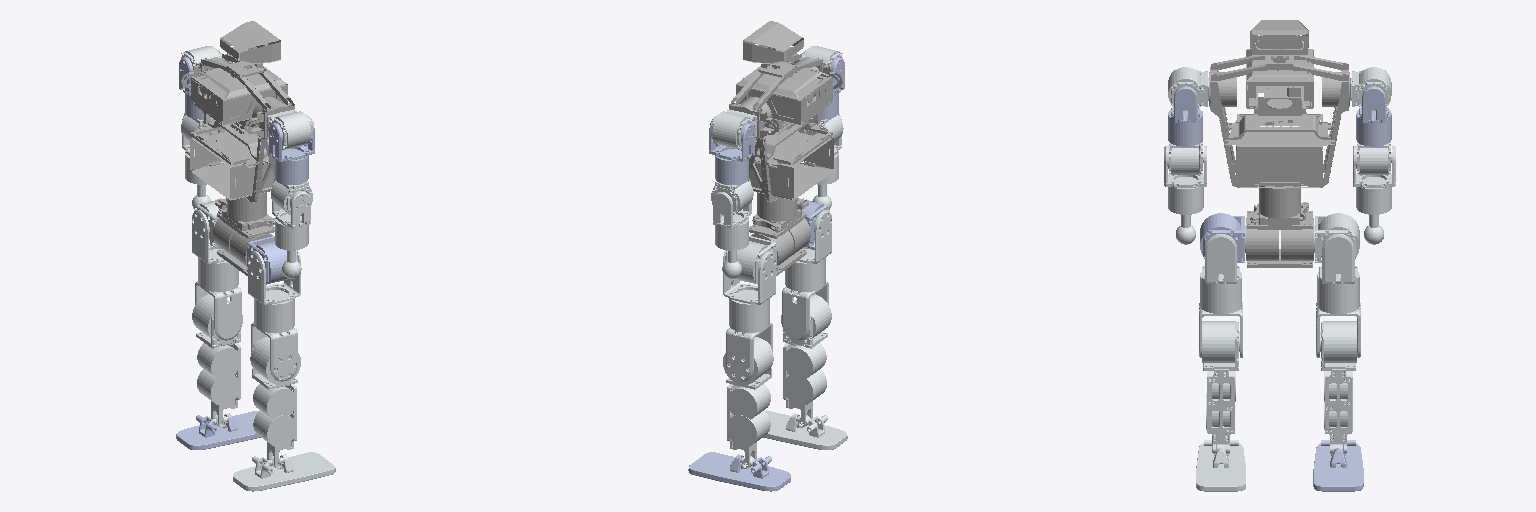
--- Render facts (derived) ---
The picture shows the robot from 3 angles, left to right: view 1: azimuth 30°, elevation 25°; view 2: azimuth 150°, elevation 25°; view 3: azimuth 270°, elevation 25°; orthographic projection.
Robot: hi_23dof_250401 — 37 links, 36 joints (23 revolute, 13 fixed); root link waist_link; default pose: every joint at zero.
Links seen in each view (by area): view 1: base_link, l_calf_link, r_calf_link, r_hip_roll_link, r_ankle_roll_link, l_hip_roll_link, waist_link, l_ankle_roll_link, r_shoulder_roll_link, r_elbow_link, r_thigh_link, l_thigh_link (+4 smaller); view 2: base_link, r_calf_link, l_calf_link, l_hip_roll_link, l_ankle_roll_link, r_hip_roll_link, waist_link, r_ankle_roll_link, l_shoulder_roll_link, l_elbow_link, l_thigh_link, r_thigh_link (+4 smaller); view 3: base_link, r_calf_link, l_calf_link, waist_link, l_hip_roll_link, r_hip_roll_link, l_ankle_roll_link, r_ankle_roll_link, l_shoulder_roll_link, r_shoulder_roll_link, l_elbow_link, r_elbow_link (+7 smaller).
Boxes of the visible links, x1,y1,x2,y2 form: base_link: (181,21,294,221); l_calf_link: (192,294,242,427); r_calf_link: (250,337,300,468); r_hip_roll_link: (248,250,300,332); r_ankle_roll_link: (233,452,335,491); l_hip_roll_link: (192,210,238,291); waist_link: (213,207,274,275); l_ankle_roll_link: (176,411,260,449); r_shoulder_roll_link: (269,116,314,184); r_elbow_link: (272,191,310,249); r_thigh_link: (251,322,297,381); l_thigh_link: (195,281,241,340); base_link: (729,21,842,221); r_calf_link: (781,294,831,427); l_calf_link: (723,337,773,468); l_hip_roll_link: (723,250,775,332); l_ankle_roll_link: (688,452,790,491); r_hip_roll_link: (785,210,831,291); waist_link: (749,209,810,275); r_ankle_roll_link: (763,411,847,449); l_shoulder_roll_link: (709,116,754,184); l_elbow_link: (713,192,751,250); l_thigh_link: (726,322,772,381); r_thigh_link: (782,281,828,340); base_link: (1209,20,1349,218); r_calf_link: (1202,321,1238,453); l_calf_link: (1321,321,1356,453); waist_link: (1246,202,1313,267); l_hip_roll_link: (1317,234,1359,313); r_hip_roll_link: (1200,234,1241,313); l_ankle_roll_link: (1313,440,1363,491); r_ankle_roll_link: (1196,440,1245,491); l_shoulder_roll_link: (1356,86,1391,146); r_shoulder_roll_link: (1168,86,1202,146); l_elbow_link: (1353,146,1395,214); r_elbow_link: (1164,146,1206,214).
Size in the robot's own frame: 0.1874 by 0.3921 by 0.8263 metres.
Meshes: 24 distinct files referenced, 24 mesh visuals loaded (24 binary STL).

robot.urdf — hi_23dof_250401:
<?xml version="1.0" encoding="utf-8"?>
<!--
This URDF was automatically created by SolidWorks to URDF Exporter! Originally created by Stephen Brawner ([email redacted])
Commit Version: 1.6.0-4-g7f85cfe  Build Version: 1.6.7995.38578
For more information, please see http://wiki.ros.org/sw_urdf_exporter
-->
<robot name="hi_23dof_250401">
	<mujoco>
		<compiler meshdir="../meshes/" balanceinertia="true" discardvisual="false" />
	</mujoco>
	<link name="base_link">
		<inertial>
			<origin xyz="0.0259087 -0.0015142 -0.0707803" rpy="0 0 0" />
			<mass value="4.2751522" />
			<inertia ixx="0.0576049" ixy="-1.59E-05" ixz="0.0004045" iyy="0.0457651" iyz="2.6E-06" izz="0.0212488" />
		</inertial>
		<visual>
			<origin xyz="0 0 0" rpy="0 0 0" />
			<geometry>
				<mesh filename="../meshes/base_link.STL" />
			</geometry>
			<material name="">
				<color rgba="0.75294 0.75294 0.75294 1" />
			</material>
		</visual>
		<collision>
			<origin xyz="0.03 0 -0.07" rpy="0 0 0" />
			<geometry>
				<box size="0.12 0.24 0.28" />
				<!-- <mesh filename="../meshes/base_link.STL" /> -->
			</geometry>
		</collision>
	</link>
<!-- waist -->
	<link name="waist_link">
		<inertial>
			<origin xyz="1.2E-06 3.4E-05 -0.049561" rpy="0 0 0" />
			<mass value="1.5958" />
			<inertia ixx="0.0027667" ixy="7.1E-06" ixz="-1E-07" iyy="0.001617" iyz="-2.6E-06" izz="0.0021703" />
		</inertial>
		<visual>
			<origin xyz="0 0 0" rpy="0 0 0" />
			<geometry>
				<mesh filename="../meshes/waist_link.STL" />
			</geometry>
			<material name="">
				<color rgba="0.75294 0.75294 0.75294 1" />
			</material>
		</visual>
		<collision>
			<origin xyz="0 0 -0.05" rpy="0 0 0" />
			<geometry>
				<box size="0.09 0.11 0.09" />
				<!-- <mesh filename="../meshes/waist_link.STL" /> -->
			</geometry>
		</collision>
	</link>
	<joint name="waist_joint" type="revolute">
		<origin xyz="-0.028589 0.0015934 0.2183" rpy="0 0 0" />
		<parent link="waist_link" />
		<child link="base_link" />
		<axis xyz="0 0 1" />
		<limit lower="-0.5" upper="0.5" effort="24" velocity="6.28" />
	</joint>

	<link name="head_link"/>
	<joint name="head_fixed_joint" type="fixed">
		<origin xyz="0.03 0 0.06" rpy="0 0 0" />
		<parent link="base_link" />
		<child link="head_link" />
	</joint>

<!-- left leg -->
	<link name="l_hip_pitch_link">
		<inertial>
			<origin xyz="0.0001203 0.0399259 0" rpy="0 0 0" />
			<mass value="0.665545" />
			<inertia ixx="0.0004708" ixy="0" ixz="0" iyy="0.0004388" iyz="0" izz="0.000473" />
		</inertial>
		<visual>
			<origin xyz="0 0 0" rpy="0 0 0" />
			<geometry>
				<mesh filename="../meshes/l_hip_pitch_link.STL" />
			</geometry>
			<material name="">
				<color rgba="0.89804 0.91765 0.92941 1" />
			</material>
		</visual>
		<collision>
			<origin xyz="0 0.04 0" rpy="0 0 0" />
			<geometry>
				<box size="0.06 0.07 0.06" />
				<!-- <mesh filename="../meshes/l_hip_pitch_link.STL" /> -->
			</geometry>
		</collision>
	</link>
  	<joint name="l_hip_pitch_joint" type="revolute">
		<origin xyz="0 0.0575000000000001 -0.0553000000000014" rpy="0 0 0" />
		<parent link="waist_link" />
		<child link="l_hip_pitch_link" />
		<axis xyz="0 1 0" />
		<limit lower="-1.6" upper="1.6" effort="24" velocity="6.28" />
	</joint>
	<link name="l_hip_roll_link">
		<inertial>
			<origin xyz="-0.027804 0 -0.0756606" rpy="0 0 0" />
			<mass value="0.7871145" />
			<inertia ixx="0.0013399" ixy="0" ixz="2.98E-05" iyy="0.0015491" iyz="0" izz="0.0006846" />
		</inertial>
		<visual>
			<origin xyz="0 0 0" rpy="0 0 0" />
			<geometry>
				<mesh filename="../meshes/l_hip_roll_link.STL" />
			</geometry>
			<material name="">
				<color rgba="0.89804 0.91765 0.92941 1" />
			</material>
		</visual>
		<collision>
			<origin xyz="-0.03 0 -0.09" rpy="0 0 0" />
			<geometry>
				<box size="0.06 0.07 0.06" />
				<!-- <mesh filename="../meshes/l_hip_roll_link.STL" /> -->
			</geometry>
		</collision>
	</link>
	<joint name="l_hip_roll_joint" type="revolute">
		<origin xyz="0.02725 0.042 0" rpy="0 0 0" />
		<parent link="l_hip_pitch_link" />
		<child link="l_hip_roll_link" />
		<axis xyz="1 0 0" />
		<limit lower="-0.25" upper="0.6" effort="24" velocity="6.28" />
	</joint>
	<link name="l_thigh_link">
		<inertial>
			<origin xyz="0 -0.0018622 -0.0367228" rpy="0 0 0" />
			<mass value="0.2132463" />
			<inertia ixx="0.0003791" ixy="0" ixz="0" iyy="0.0002268" iyz="-0.0000158" izz="0.0002474" />
		</inertial>
		<visual>
			<origin xyz="0 0 0" rpy="0 0 0" />
			<geometry>
				<mesh filename="../meshes/l_thigh_link.STL" />
			</geometry>
			<material name="">
				<color rgba="0.89804 0.91765 0.92941 1" />
			</material>
		</visual>
		<collision>
			<origin xyz="0 0 -0.005" rpy="0 0 0" />
			<geometry>
				<box size="0.01 0.01 0.01" />
				<!-- <mesh filename="../meshes/l_thigh_link.STL" /> -->
			</geometry>
		</collision>
	</link>
	<joint name="l_thigh_joint" type="revolute">
		<origin xyz="-0.02725 0 -0.123" rpy="0 0 0" />
		<parent link="l_hip_roll_link" />
		<child link="l_thigh_link" />
		<axis xyz="0 0 1" />
		<limit lower="-1.2" upper="1.2" effort="24" velocity="6.28" />
	</joint>
	<link name="l_calf_link">
		<inertial>
			<origin xyz="0.0018338 -0.0030441 -0.0596583" rpy="0 0 0" />
			<mass value="1.4585536" />
			<inertia ixx="0.0055481" ixy="0.0000019" ixz="0.0001383" iyy="0.0056259" iyz="-0.0000550" izz="0.0007844" />
		</inertial>
		<visual>
			<origin xyz="0 0 0" rpy="0 0 0" />
			<geometry>
				<mesh filename="../meshes/l_calf_link.STL" />
			</geometry>
			<material name="">
				<color rgba="0.89804 0.91765 0.92941 1" />
			</material>
		</visual>
		<collision>
			<origin xyz="0 0 -0.07" rpy="0 0 0" />
			<geometry>
				<box size="0.06 0.06 0.21" />
				<!-- <mesh filename="../meshes/l_calf_link.STL" /> -->
			</geometry>
		</collision>
	</link>
	<joint name="l_calf_joint" type="revolute">
		<origin xyz="0 0.00375 -0.069" rpy="0 0 0" />
		<parent link="l_thigh_link" />
		<child link="l_calf_link" />
		<axis xyz="0 1 0" />
		<limit lower="0" upper="2.23" effort="24" velocity="6.28" />
	</joint>
	<link name="l_ankle_pitch_link">
		<inertial>
			<origin xyz="0 -0.0085004 0" rpy="0 0 0" />
			<mass value="0.0089231" />
			<inertia ixx="2E-07" ixy="0" ixz="0" iyy="1E-06" iyz="0" izz="1E-06" />
		</inertial>
		<visual>
			<origin xyz="0 0 0" rpy="0 0 0" />
			<geometry>
				<mesh filename="../meshes/l_ankle_pitch_link.STL" />
			</geometry>
			<material name="">
				<color rgba="0.89804 0.91765 0.92941 1" />
			</material>
		</visual>
		<collision>
			<origin xyz="0 0 0" rpy="0 0 0" />
			<geometry>
				<box size="0.01 0.01 0.01" />
				<!-- <mesh filename="../meshes/l_ankle_pitch_link.STL" /> -->
			</geometry>
		</collision>
	</link>
	<joint name="l_ankle_pitch_joint" type="revolute">
		<origin xyz="0 0.00475 -0.2" rpy="0 0 0" />
		<parent link="l_calf_link" />
		<child link="l_ankle_pitch_link" />
		<axis xyz="0 1 0" />
		<limit lower="-1" upper="0.75" effort="24" velocity="6.28" />
	</joint>
	<link name="l_ankle_roll_link">
		<inertial>
			<origin xyz="0.002161 1.16E-05 -0.0230112" rpy="0 0 0" />
			<mass value="0.4035208" />
			<inertia ixx="0.0002216" ixy="8E-07" ixz="1.62E-05" iyy="0.0009975" iyz="0" izz="0.0011866" />
		</inertial>
		<visual>
			<origin xyz="0 0 0" rpy="0 0 0" />
			<geometry>
				<mesh filename="../meshes/l_ankle_roll_link.STL" />
			</geometry>
			<material name="">
				<color rgba="0.79216 0.81961 0.93333 1" />
			</material>
		</visual>
		<collision>
			<origin xyz="0 0 0" rpy="0 0 0" />
			<geometry>
				<mesh filename="../meshes/l_ankle_roll_link.STL" />
			</geometry>
		</collision>
	</link>
	<joint name="l_ankle_roll_joint" type="revolute">
		<origin xyz="0.015125 -0.0085 0" rpy="0 0 0" />
		<parent link="l_ankle_pitch_link" />
		<child link="l_ankle_roll_link" />
		<axis xyz="1 0 0" />
		<limit lower="-0.8" upper="0.8" effort="24" velocity="6.28" />
	</joint>


	<link name="left_toe"/>
	<joint name="left_toe_fixed_joint" type="fixed">
		<origin xyz="0.09 0 -0.03" rpy="0 0 0" />
		<parent link="l_ankle_roll_link" />
		<child link="left_toe" />
	</joint>

	<link name="l1"/>
	<joint name="l1_fixed_joint" type="fixed">
		<origin xyz="0.09 0.04 -0.03" rpy="0 0 0" />
		<parent link="l_ankle_roll_link" />
		<child link="l1" />
	</joint>
	<link name="l2"/>
	<joint name="l2_fixed_joint" type="fixed">
		<origin xyz="0.09 -0.04 -0.03" rpy="0 0 0" />
		<parent link="l_ankle_roll_link" />
		<child link="l2" />
	</joint>
	<link name="l3"/>
	<joint name="l3_fixed_joint" type="fixed">
		<origin xyz="-0.085 0.04 -0.03" rpy="0 0 0" />
		<parent link="l_ankle_roll_link" />
		<child link="l3" />
	</joint>
	<link name="l4"/>
	<joint name="l4_fixed_joint" type="fixed">
		<origin xyz="-0.085 -0.04 -0.03" rpy="0 0 0" />
		<parent link="l_ankle_roll_link" />
		<child link="l4" />
	</joint>

<!-- right leg -->
	<link name="r_hip_pitch_link">
		<inertial>
			<origin xyz="0.0001203 -0.039926 0" rpy="0 0 0" />
			<mass value="0.66555" />
			<inertia ixx="0.0004708" ixy="0" ixz="0" iyy="0.0004388" iyz="0" izz="0.000473" />
		</inertial>
		<visual>
			<origin xyz="0 0 0" rpy="0 0 0" />
			<geometry>
				<mesh filename="../meshes/r_hip_pitch_link.STL" />
			</geometry>
			<material name="">
				<color rgba="0.79216 0.81961 0.93333 1" />
			</material>
		</visual>
		<collision>
			<origin xyz="0 -0.04 0" rpy="0 0 0" />
			<geometry>
				<box size="0.06 0.07 0.06" />
				<!-- <mesh filename="../meshes/r_hip_pitch_link.STL" /> -->
			</geometry>
		</collision>
	</link>
  	<joint name="r_hip_pitch_joint" type="revolute">
		<origin xyz="0 -0.0575 -0.0553000000000005" rpy="0 0 0" />
		<parent link="waist_link" />
		<child link="r_hip_pitch_link" />
		<axis xyz="0 1 0" />
		<limit lower="-1.6" upper="1.6" effort="24" velocity="6.28" />
	</joint>
	<link name="r_hip_roll_link">
		<inertial>
			<origin xyz="-0.027804 0 -0.0756606" rpy="0 0 0" />
			<mass value="0.7871145" />
			<inertia ixx="0.0013399" ixy="0" ixz="2.98E-05" iyy="0.0015491" iyz="0" izz="0.0006846" />
		</inertial>
		<visual>
			<origin xyz="0 0 0" rpy="0 0 0" />
			<geometry>
				<mesh filename="../meshes/r_hip_roll_link.STL" />
			</geometry>
			<material name="">
				<color rgba="0.89804 0.91765 0.92941 1" />
			</material>
		</visual>
		<collision>
			<origin xyz="-0.03 0 -0.09" rpy="0 0 0" />
			<geometry>
				<box size="0.06 0.07 0.06" />
				<!-- <mesh filename="../meshes/r_hip_roll_link.STL" /> -->
			</geometry>
		</collision>
	</link>
	<joint name="r_hip_roll_joint" type="revolute">
		<origin xyz="0.02725 -0.042 0" rpy="0 0 0" />
		<parent link="r_hip_pitch_link" />
		<child link="r_hip_roll_link" />
		<axis xyz="1 0 0" />
		<limit lower="-0.6" upper="0.25" effort="24" velocity="6.28" />
	</joint>
	<link name="r_thigh_link">
		<inertial>
			<origin xyz="0 0.0018622 -0.0367228" rpy="0 0 0" />
			<mass value="0.2132463" />
			<inertia ixx="0.0003791" ixy="0" ixz="0" iyy="0.0002268" iyz="0.0000158" izz="0.0002474" />
		</inertial>
		<visual>
			<origin xyz="0 0 0" rpy="0 0 0" />
			<geometry>
				<mesh filename="../meshes/r_thigh_link.STL" />
			</geometry>
			<material name="">
				<color rgba="0.89804 0.91765 0.92941 1" />
			</material>
		</visual>
		<collision>
			<origin xyz="0 0 -0.005" rpy="0 0 0" />
			<geometry>
				<box size="0.01 0.01 0.01" />
				<!-- <mesh filename="../meshes/r_thigh_link.STL" /> -->
			</geometry>
		</collision>
	</link>
	<joint name="r_thigh_joint" type="revolute">
		<origin xyz="-0.02725 0 -0.123" rpy="0 0 0" />
		<parent link="r_hip_roll_link" />
		<child link="r_thigh_link" />
		<axis xyz="0 0 1" />
		<limit lower="-1.2" upper="1.2" effort="24" velocity="6.28" />
	</joint>
	<link name="r_calf_link">
		<inertial>
			<origin xyz="0.0018341 0.0030218 -0.0596584" rpy="0 0 0" />
			<mass value="1.4585564" />
			<inertia ixx="0.0055481" ixy="-0.0000020" ixz="0.0001382" iyy="0.0056259" iyz="0.0000527" izz="0.0007844" />
		</inertial>
		<visual>
			<origin xyz="0 0 0" rpy="0 0 0" />
			<geometry>
				<mesh filename="../meshes/r_calf_link.STL" />
			</geometry>
			<material name="">
				<color rgba="0.89804 0.91765 0.92941 1" />
			</material>
		</visual>
		<collision>
			<origin xyz="0 0 -0.07" rpy="0 0 0" />
			<geometry>
				<box size="0.06 0.06 0.21" />
				<!-- <mesh filename="../meshes/r_calf_link.STL" /> -->
			</geometry>
		</collision>
	</link>
	<joint name="r_calf_joint" type="revolute">
		<origin xyz="0 -0.00375 -0.069" rpy="0 0 0" />
		<parent link="r_thigh_link" />
		<child link="r_calf_link" />
		<axis xyz="0 1 0" />
		<limit lower="0" upper="2.23" effort="24" velocity="6.28" />
	</joint>
	<link name="r_ankle_pitch_link">
		<inertial>
			<origin xyz="0 0.0084996 0" rpy="0 0 0" />
			<mass value="0.0089231" />
			<inertia ixx="2E-07" ixy="0" ixz="0" iyy="1E-06" iyz="0" izz="1E-06" />
		</inertial>
		<visual>
			<origin xyz="0 0 0" rpy="0 0 0" />
			<geometry>
				<mesh filename="../meshes/r_ankle_pitch_link.STL" />
			</geometry>
			<material name="">
				<color rgba="0.89804 0.91765 0.92941 1" />
			</material>
		</visual>
		<collision>
			<origin xyz="0 0 0" rpy="0 0 0" />
			<geometry>
				<box size="0.01 0.01 0.01" />
				<!-- <mesh filename="../meshes/r_ankle_pitch_link.STL" /> -->
			</geometry>
		</collision>
	</link>
	<joint name="r_ankle_pitch_joint" type="revolute">
		<origin xyz="0 -0.00475 -0.2" rpy="0 0 0" />
		<parent link="r_calf_link" />
		<child link="r_ankle_pitch_link" />
		<axis xyz="0 1 0" />
		<limit lower="-1" upper="0.75" effort="24" velocity="6.28" />
	</joint>
	<link name="r_ankle_roll_link">
		<inertial>
			<origin xyz="0.002168 4.3E-06 -0.0230112" rpy="0 0 0" />
			<mass value="0.4035208" />
			<inertia ixx="0.0002216" ixy="2E-07" ixz="1.62E-05" iyy="0.0009975" iyz="0" izz="0.0011866" />
		</inertial>
		<visual>
			<origin xyz="0 0 0" rpy="0 0 0" />
			<geometry>
				<mesh filename="../meshes/r_ankle_roll_link.STL" />
			</geometry>
			<material name="">
				<color rgba="0.89804 0.91765 0.92941 1" />
			</material>
		</visual>
		<collision>
			<origin xyz="0 0 0" rpy="0 0 0" />
			<geometry>
				<mesh filename="../meshes/r_ankle_roll_link.STL" />
			</geometry>
		</collision>
	</link>
	<joint name="r_ankle_roll_joint" type="revolute">
		<origin xyz="0.015125 0.0085 0" rpy="0 0 0" />
		<parent link="r_ankle_pitch_link" />
		<child link="r_ankle_roll_link" />
		<axis xyz="1 0 0" />
		<limit lower="-0.8" upper="0.8" effort="24" velocity="6.28" />
	</joint>

	<link name="right_toe"/>
	<joint name="right_toe_fixed_joint" type="fixed">
		<origin xyz="0.09 0 -0.03" rpy="0 0 0" />
		<parent link="r_ankle_roll_link" />
		<child link="right_toe" />
	</joint>

<!-- left arm -->
	<link name="l_shoulder_pitch_link">
		<inertial>
			<origin xyz="0.0008423 0.032655 -1.71E-05" rpy="0 0 0" />
			<mass value="0.31428" />
			<inertia ixx="0.0001801" ixy="-2.6E-06" ixz="0" iyy="0.0001495" iyz="-2E-07" izz="0.0001989" />
		</inertial>
		<visual>
			<origin xyz="0 0 0" rpy="0 0 0" />
			<geometry>
				<mesh filename="../meshes/l_shoulder_pitch_link.STL" />
			</geometry>
			<material name="">
				<color rgba="0.89804 0.91765 0.92941 1" />
			</material>
		</visual>
		<collision>
			<origin xyz="0 0.04 0" rpy="0 0 0" />
			<geometry>
				<box size="0.05 0.05 0.05" />
				<!-- <mesh filename="../meshes/l_shoulder_pitch_link.STL" /> -->
			</geometry>
		</collision>
	</link>
	<joint name="l_shoulder_pitch_joint" type="revolute">
		<origin xyz="0.028589 0.11796 0.0077" rpy="0 0 0" />
		<parent link="base_link" />
		<child link="l_shoulder_pitch_link" />
		<axis xyz="0 1 0" />
		<limit lower="-3.14" upper="3.14" effort="17" velocity="6.28" />
	</joint>
	<link name="l_shoulder_roll_link">
		<inertial>
			<origin xyz="-0.0206921 0 -0.0556139" rpy="0 0 0" />
			<mass value="0.2830876" />
			<inertia ixx="0.000276" ixy="0" ixz="-2.75E-05" iyy="0.0003344" iyz="0" izz="0.0001742" />
		</inertial>
		<visual>
			<origin xyz="0 0 0" rpy="0 0 0" />
			<geometry>
				<mesh filename="../meshes/l_shoulder_roll_link.STL" />
			</geometry>
			<material name="">
				<color rgba="0.79216 0.81961 0.93333 1" />
			</material>
		</visual>
		<collision>
			<origin xyz="-0.025 0 -0.067" rpy="0 0 0" />
			<geometry>
				<box size="0.05 0.05 0.05" />
				<!-- <mesh filename="../meshes/l_shoulder_roll_link.STL" /> -->
			</geometry>
		</collision>
	</link>
	<joint name="l_shoulder_roll_joint" type="revolute">
		<origin xyz="0.02325 0.04 0" rpy="0 0 0" />
		<parent link="l_shoulder_pitch_link" />
		<child link="l_shoulder_roll_link" />
		<axis xyz="1 0 0" />
		<limit lower="-3.14" upper="3.14" effort="17" velocity="6.28" />
	</joint>
	<link name="l_upper_arm_link">
		<inertial>
			<origin xyz="0.0009891 0 -0.0297051" rpy="0 0 0" />
			<mass value="0.285277" />
			<inertia ixx="0.0001467" ixy="0" ixz="1.2E-06" iyy="0.0001622" iyz="0" izz="0.0001363" />
		</inertial>
		<visual>
			<origin xyz="0 0 0" rpy="0 0 0" />
			<geometry>
				<mesh filename="../meshes/l_upper_arm_link.STL" />
			</geometry>
			<material name="">
				<color rgba="0.89804 0.91765 0.92941 1" />
			</material>
		</visual>
		<collision>
			<origin xyz="0 0 -0.027" rpy="0 0 0" />
			<geometry>
				<box size="0.05 0.05 0.05" />
				<!-- <mesh filename="../meshes/l_upper arm_link.STL" /> -->
			</geometry>
		</collision>
	</link>
	<joint name="l_upper_arm_joint" type="revolute">
		<origin xyz="-0.023 0 -0.0935" rpy="0 0 1.5707513" />
		<parent link="l_shoulder_roll_link" />
		<child link="l_upper_arm_link" />
		<axis xyz="0 0 1" />
		<limit lower="-3.14" upper="3.14" effort="17" velocity="6.28" />
	</joint>
	<link name="l_elbow_link">
		<inertial>
			<origin xyz="0.0030579 0 -0.055614" rpy="0 0 0" />
			<mass value="0.28309" />
			<inertia ixx="0.000276" ixy="0" ixz="-2.75E-05" iyy="0.0003344" iyz="0" izz="0.0001742" />
		</inertial>
		<visual>
			<origin xyz="0 0 0" rpy="0 0 0" />
			<geometry>
				<mesh filename="../meshes/l_elbow_link.STL" />
			</geometry>
			<material name="">
				<color rgba="0.89804 0.91765 0.92941 1" />
			</material>
		</visual>
		<collision>
			<origin xyz="0 0 -0.067" rpy="0 0 0" />
			<geometry>
				<box size="0.05 0.05 0.05" />
				<!-- <mesh filename="../meshes/l_elbow_link.STL" /> -->
			</geometry>
		</collision>
	</link>
	<joint name="l_elbow_joint" type="revolute">
		<origin xyz="-0.0005 0 -0.034" rpy="0 0 0" />
		<parent link="l_upper_arm_link" />
		<child link="l_elbow_link" />
		<axis xyz="1 0 0" />
		<limit lower="-3.14" upper="3.14" effort="17" velocity="6.28" />
	</joint>
	<link name="l_wrist_link">
		<inertial>
			<origin xyz="0 0 -0.0275477" rpy="0 0 0" />
			<mass value="0.0564393" />
			<inertia ixx="2.85E-05" ixy="0" ixz="0" iyy="2.85E-05" iyz="0" izz="6.3E-06" />
		</inertial>
		<visual>
			<origin xyz="0 0 0" rpy="0 0 0" />
			<geometry>
				<mesh filename="../meshes/l_wrist_link.STL" />
			</geometry>
			<material name="">
				<color rgba="0.89804 0.91765 0.92941 1" />
			</material>
		</visual>
		<collision>
			<origin xyz="0 0 -0.035" rpy="0 0 0" />
			<geometry>
				<box size="0.02 0.02 0.07" />
				<!-- <mesh filename="../meshes/l_wrist_link.STL" /> -->
			</geometry>
		</collision>
	</link>
	<joint name="l_wrist_joint" type="revolute">
		<origin xyz="0.00075 0 -0.0935" rpy="0 0 0" />
		<parent link="l_elbow_link" />
		<child link="l_wrist_link" />
		<axis xyz="0 0 1" />
		<limit lower="-3.14" upper="3.14" effort="17" velocity="6.28" />
	</joint>
	<link name="left_hand_link"/>
	<joint name="left_hand_fixed_joint" type="fixed">
		<origin xyz="0 0 -0.05" rpy="0 0 0" />
		<parent link="l_wrist_link" />
		<child link="left_hand_link" />
	</joint>

<!-- right arm -->
	<link name="r_shoulder_pitch_link">
		<inertial>
			<origin xyz="0.0008423 -0.032655 1.71E-05" rpy="0 0 0" />
			<mass value="0.31428" />
			<inertia ixx="0.0001801" ixy="2.6E-06" ixz="0" iyy="0.0001495" iyz="-2E-07" izz="0.0001989" />
		</inertial>
		<visual>
			<origin xyz="0 0 0" rpy="0 0 0" />
			<geometry>
				<mesh filename="../meshes/r_shoulder_pitch_link.STL" />
			</geometry>
			<material name="">
				<color rgba="0.89804 0.91765 0.92941 1" />
			</material>
		</visual>
		<collision>
			<origin xyz="0 -0.04 0" rpy="0 0 0" />
			<geometry>
				<box size="0.05 0.05 0.05" />
				<!-- <mesh filename="../meshes/r_shoulder_pitch_link.STL" /> -->
			</geometry>
		</collision>
	</link>
	<joint name="r_shoulder_pitch_joint" type="revolute">
		<origin xyz="0.028589 -0.12114 0.0077" rpy="0 0 0" />
		<parent link="base_link" />
		<child link="r_shoulder_pitch_link" />
		<axis xyz="0 1 0" />
		<limit lower="-3.14" upper="3.14" effort="17" velocity="6.28" />
	</joint>
	<link name="r_shoulder_roll_link">
		<inertial>
			<origin xyz="-0.0206921 0 -0.0556139" rpy="0 0 0" />
			<mass value="0.2830876" />
			<inertia ixx="0.000276" ixy="0" ixz="-2.75E-05" iyy="0.0003344" iyz="0" izz="0.0001742" />
		</inertial>
		<visual>
			<origin xyz="0 0 0" rpy="0 0 0" />
			<geometry>
				<mesh filename="../meshes/r_shoulder_roll_link.STL" />
			</geometry>
			<material name="">
				<color rgba="0.79216 0.81961 0.93333 1" />
			</material>
		</visual>
		<collision>
			<origin xyz="-0.025 0 -0.067" rpy="0 0 0" />
			<geometry>
				<box size="0.05 0.05 0.05" />
				<!-- <mesh filename="../meshes/r_shoulder_roll_link.STL" /> -->
			</geometry>
		</collision>
	</link>
	<joint name="r_shoulder_roll_joint" type="revolute">
		<origin xyz="0.02325 -0.04 0" rpy="0 0 0" />
		<parent link="r_shoulder_pitch_link" />
		<child link="r_shoulder_roll_link" />
		<axis xyz="1 0 0" />
		<limit lower="-3.14" upper="3.14" effort="17" velocity="6.28" />
	</joint>
	<link name="r_upper_arm_link">
		<inertial>
			<origin xyz="0.0009891 0 -0.0297051" rpy="0 0 0" />
			<mass value="0.285277" />
			<inertia ixx="0.0001467" ixy="0" ixz="1.2E-06" iyy="0.0001622" iyz="0" izz="0.0001363" />
		</inertial>
		<visual>
			<origin xyz="0 0 0" rpy="0 0 0" />
			<geometry>
				<mesh filename="../meshes/r_upper_arm_link.STL" />
			</geometry>
			<material name="">
				<color rgba="0.89804 0.91765 0.92941 1" />
			</material>
		</visual>
		<collision>
			<origin xyz="0 0 -0.027" rpy="0 0 0" />
			<geometry>
				<box size="0.05 0.05 0.05" />
				<!-- <mesh filename="../meshes/r_upper arm_link.STL" /> -->
			</geometry>
		</collision>
	</link>
	<joint name="r_upper_arm_joint" type="revolute">
		<origin xyz="-0.023 0 -0.0935" rpy="0 0 1.5707513" />
		<parent link="r_shoulder_roll_link" />
		<child link="r_upper_arm_link" />
		<axis xyz="0 0 1" />
		<limit lower="-3.14" upper="3.14" effort="17" velocity="6.28" />
	</joint>
	<link name="r_elbow_link">
		<inertial>
			<origin xyz="0.0030579 0 -0.0556139" rpy="0 0 0" />
			<mass value="0.2830876" />
			<inertia ixx="0.000276" ixy="0" ixz="-2.75E-05" iyy="0.0003344" iyz="0" izz="0.0001742" />
		</inertial>
		<visual>
			<origin xyz="0 0 0" rpy="0 0 0" />
			<geometry>
				<mesh filename="../meshes/r_elbow_link.STL" />
			</geometry>
			<material name="">
				<color rgba="0.89804 0.91765 0.92941 1" />
			</material>
		</visual>
		<collision>
			<origin xyz="0 0 -0.067" rpy="0 0 0" />
			<geometry>
				<box size="0.05 0.05 0.05" />
				<!-- <mesh filename="../meshes/r_elbow_link.STL" /> -->
			</geometry>
		</collision>
	</link>
	<joint name="r_elbow_joint" type="revolute">
		<origin xyz="-0.0005 0 -0.034" rpy="0 0 0" />
		<parent link="r_upper_arm_link" />
		<child link="r_elbow_link" />
		<axis xyz="1 0 0" />
		<limit lower="-3.14" upper="3.14" effort="17" velocity="6.28" />
	</joint>
	<link name="r_wrist_link">
		<inertial>
			<origin xyz="0 0 -0.0275477" rpy="0 0 0" />
			<mass value="0.0564393" />
			<inertia ixx="2.85E-05" ixy="0" ixz="0" iyy="2.85E-05" iyz="0" izz="6.3E-06" />
		</inertial>
		<visual>
			<origin xyz="0 0 0" rpy="0 0 0" />
			<geometry>
				<mesh filename="../meshes/r_wrist_link.STL" />
			</geometry>
			<material name="">
				<color rgba="0.89804 0.91765 0.92941 1" />
			</material>
		</visual>
		<collision>
			<origin xyz="0 0 -0.035" rpy="0 0 0" />
			<geometry>
				<box size="0.02 0.02 0.07" />
				<!-- <mesh filename="../meshes/r_wrist_link.STL" /> -->
			</geometry>
		</collision>
	</link>
	<joint name="r_wrist_joint" type="revolute">
		<origin xyz="0.00075 0 -0.0935" rpy="0 0 0" />
		<parent link="r_elbow_link" />
		<child link="r_wrist_link" />
		<axis xyz="0 0 1" />
		<limit lower="-3.14" upper="3.14" effort="17" velocity="6.28" />
	</joint>
	<link name="right_hand_link"/>
	<joint name="right_hand_fixed_joint" type="fixed">
		<origin xyz="0 0 -0.05" rpy="0 0 0" />
		<parent link="r_wrist_link" />
		<child link="right_hand_link" />
	</joint>


	<link name="r1"/>
	<joint name="r1_fixed_joint" type="fixed">
		<origin xyz="0.09 0.04 -0.03" rpy="0 0 0" />
		<parent link="r_ankle_roll_link" />
		<child link="r1" />
	</joint>
	<link name="r2"/>
	<joint name="r2_fixed_joint" type="fixed">
		<origin xyz="0.09 -0.04 -0.03" rpy="0 0 0" />
		<parent link="r_ankle_roll_link" />
		<child link="r2" />
	</joint>
	<link name="r3"/>
	<joint name="r3_fixed_joint" type="fixed">
		<origin xyz="-0.085 0.04 -0.03" rpy="0 0 0" />
		<parent link="r_ankle_roll_link" />
		<child link="r3" />
	</joint>
	<link name="r4"/>
	<joint name="r4_fixed_joint" type="fixed">
		<origin xyz="-0.085 -0.04 -0.03" rpy="0 0 0" />
		<parent link="r_ankle_roll_link" />
		<child link="r4" />
	</joint>


</robot>
